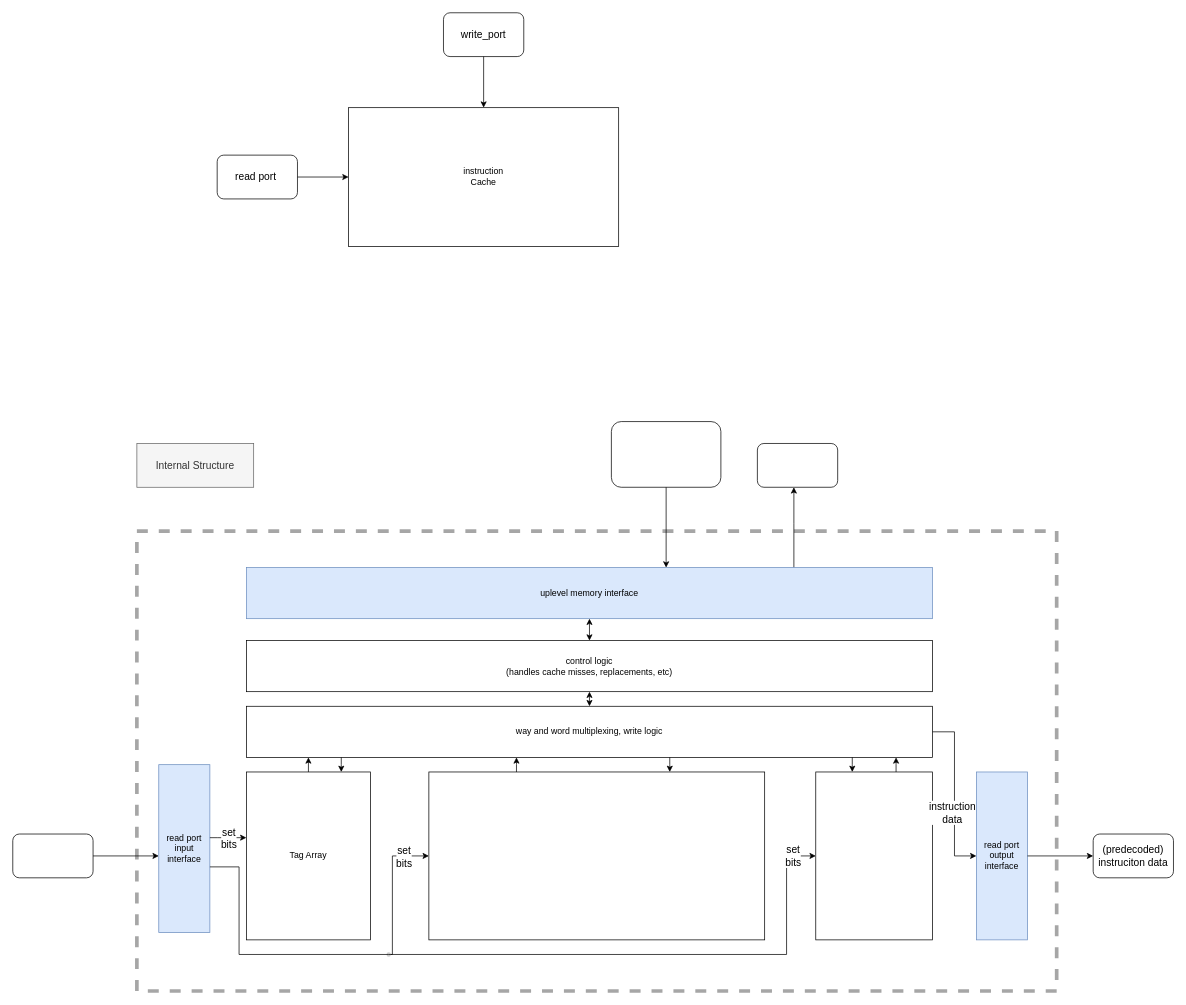
Image size: 1186x1005. Some labels were removed from this diagram. Each missing label, with the box of its shape:
Data Array: (428, 771, 765, 940)
instruction address: (12, 833, 93, 878)
memory request port: (757, 443, 838, 487)
Status Register file: (815, 771, 933, 940)
write_port (from memory) (predecoed instructions): (611, 421, 721, 487)
